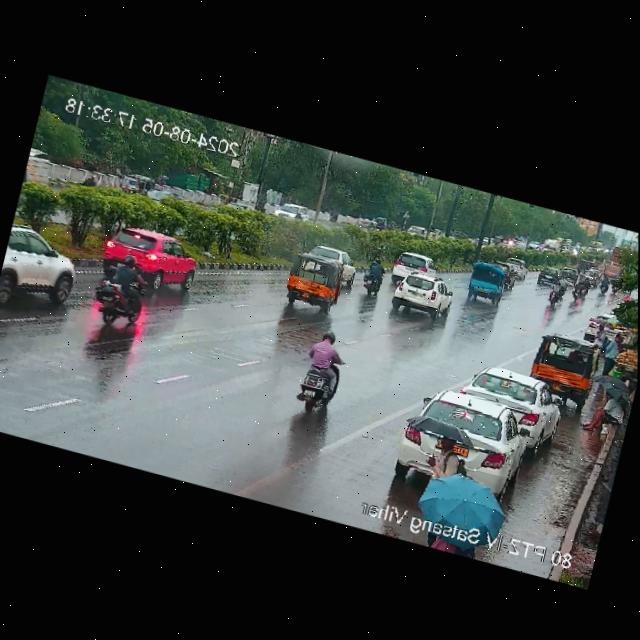car: (398, 384, 524, 491), (463, 366, 565, 454), (103, 220, 202, 289), (0, 230, 79, 305), (529, 332, 595, 391), (282, 253, 341, 308), (388, 272, 451, 321), (386, 246, 435, 283), (462, 262, 505, 304), (321, 248, 360, 284), (273, 198, 311, 222)
motorcycle: (291, 331, 348, 421), (413, 429, 461, 525), (96, 251, 150, 329), (584, 379, 627, 439), (596, 331, 626, 380), (356, 256, 388, 300), (547, 279, 563, 304)
